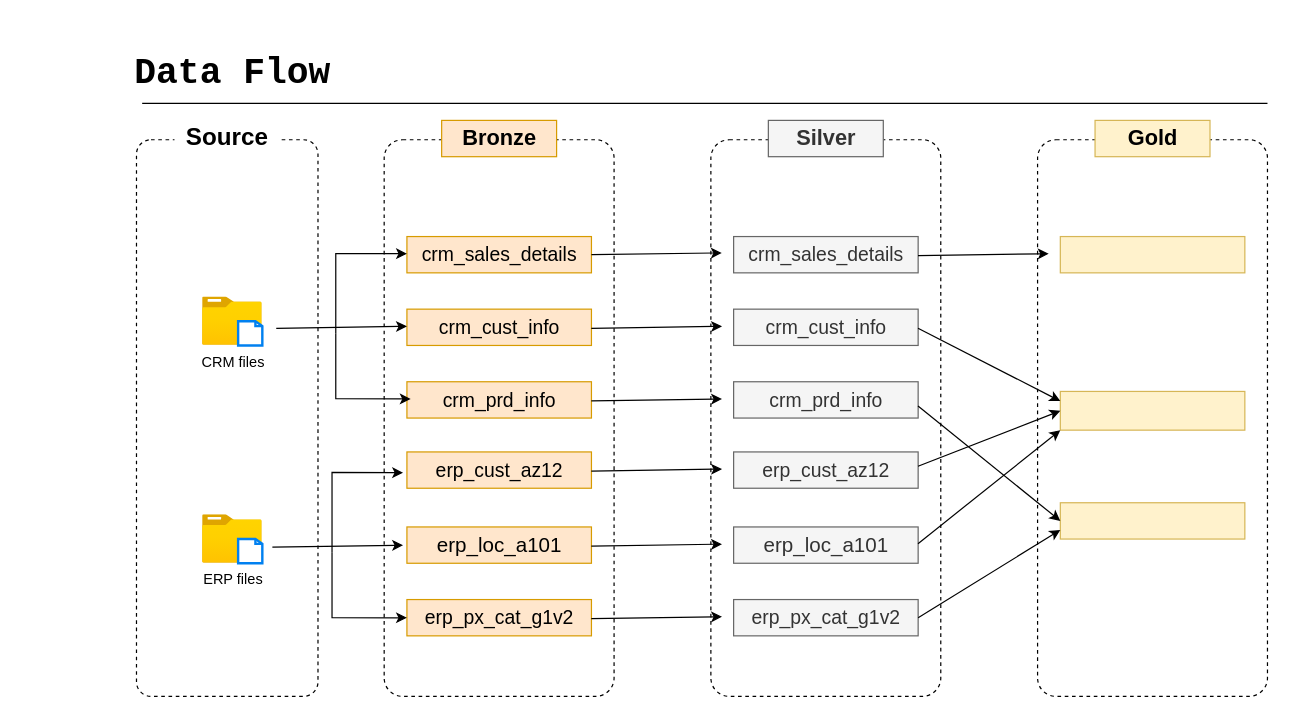
Some shapes in this 1290 by 718 pixel diagram are drawn without their labels. The shapes that lost their labels are listed below. From the top down, each one's box as (x1, y1, x2, y2) in pixels, then its label:
(1059, 235, 1245, 273): fact_sales
(1059, 390, 1245, 430): dim_customers
(1059, 502, 1245, 539): dim_products
